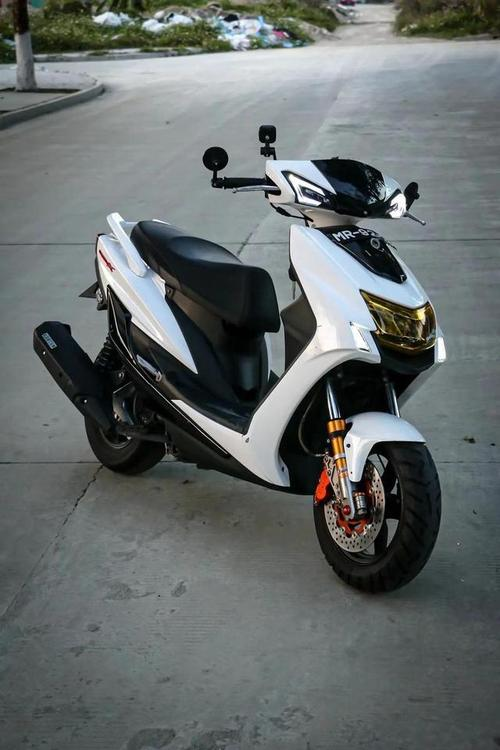摩托车: (33, 118, 453, 611)
